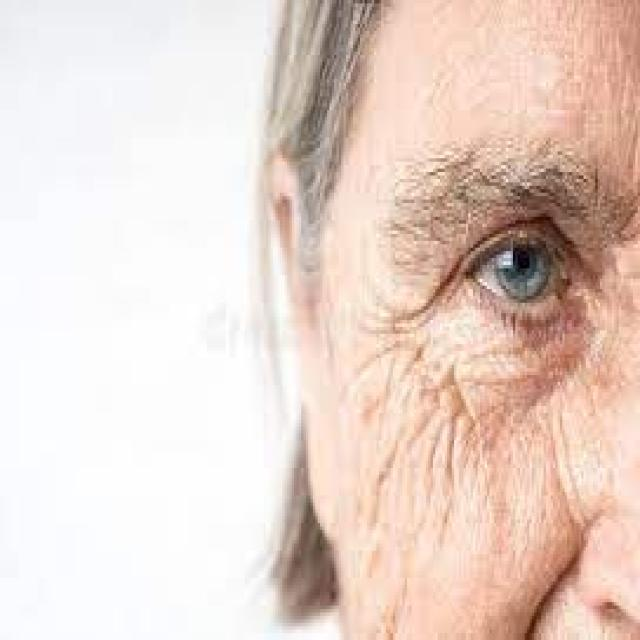Wrinkles: (335, 290, 482, 576)
